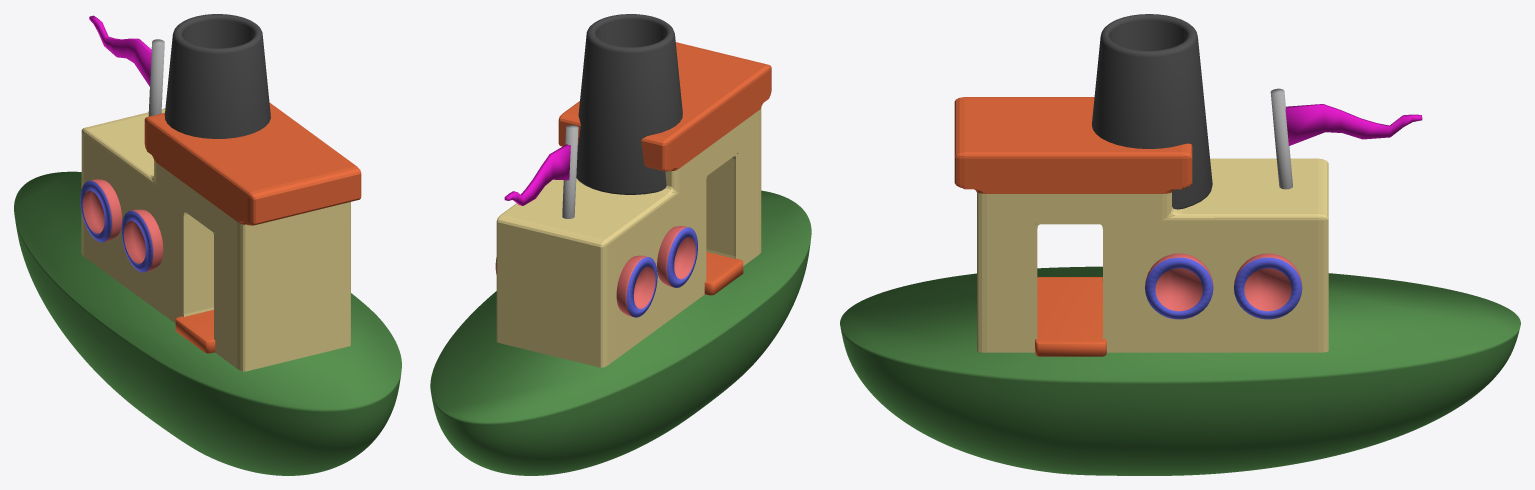
The model's file is boat.glb.
The picture shows the model from 3 angles, left to right: view 1: azimuth 30°, elevation 25°; view 2: azimuth 150°, elevation 25°; view 3: azimuth 270°, elevation 25°; orthographic projection. The views are drawn at different scales.
Parts seen in each view (by area): view 1: Boat; view 2: Boat; view 3: Boat.
Part boxes in pixels (x1,y1,x2,y2): Boat: (14, 14, 401, 475); Boat: (430, 14, 811, 475); Boat: (840, 14, 1520, 475).
Bounding box in the file's own units: 2.43 × 4.28 × 6.1.
